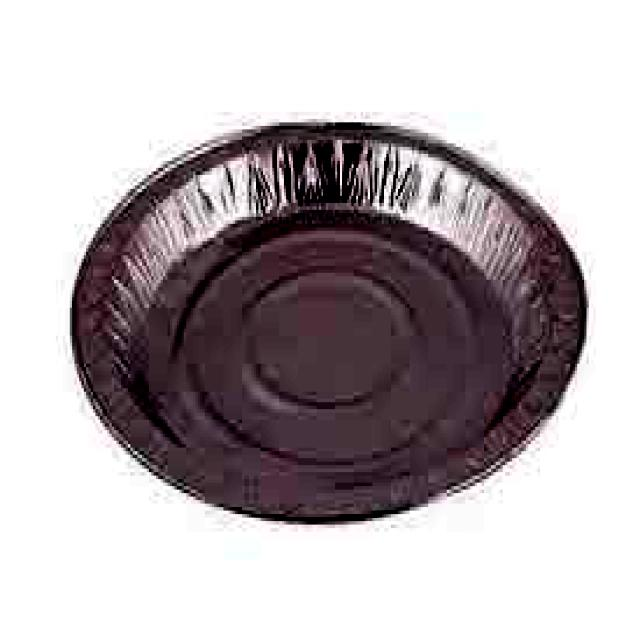Trash: (64, 113, 590, 527)
